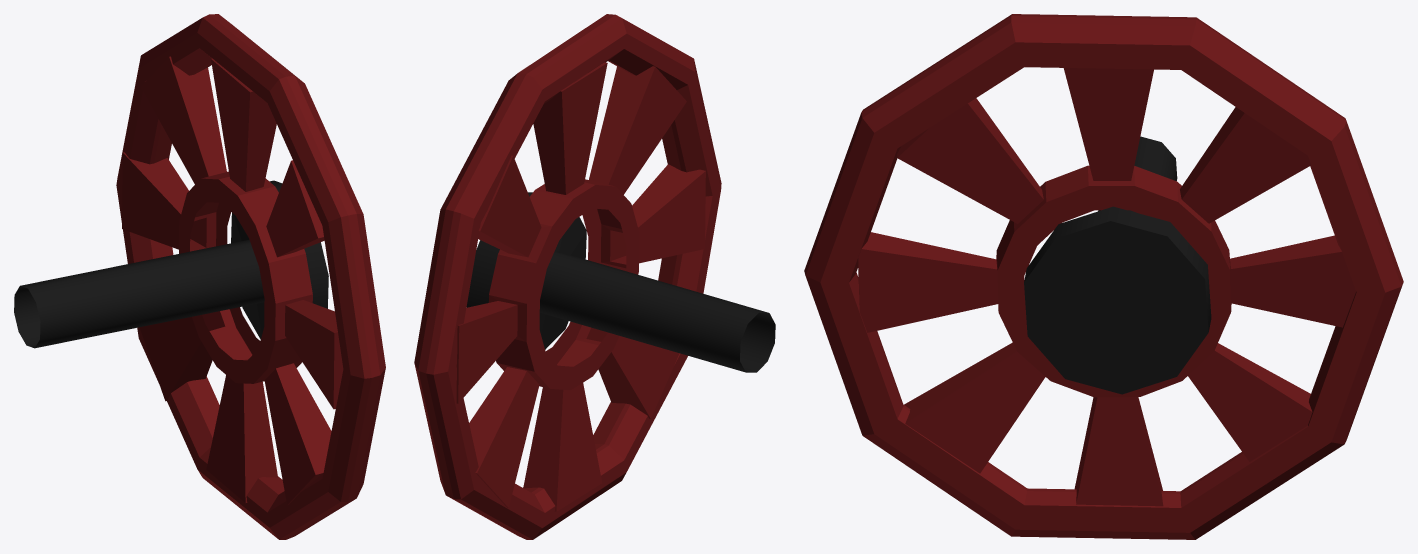
File: stage5 button1.fbx
3 views of the same model, side by side, from view 1: azimuth 30°, elevation 25°; view 2: azimuth 150°, elevation 25°; view 3: azimuth 270°, elevation 25° (orthographic). The views are drawn at different scales.
Visible parts, largest first — view 1: Cylinder005; view 2: Cylinder005; view 3: Cylinder005.
Part boxes in pixels (x1,y1,x2,y2): Cylinder005: (14, 14, 385, 539); Cylinder005: (414, 14, 775, 539); Cylinder005: (804, 14, 1403, 539).
Bounding box in the file's own units: 10.27 × 18.17 × 17.3.
